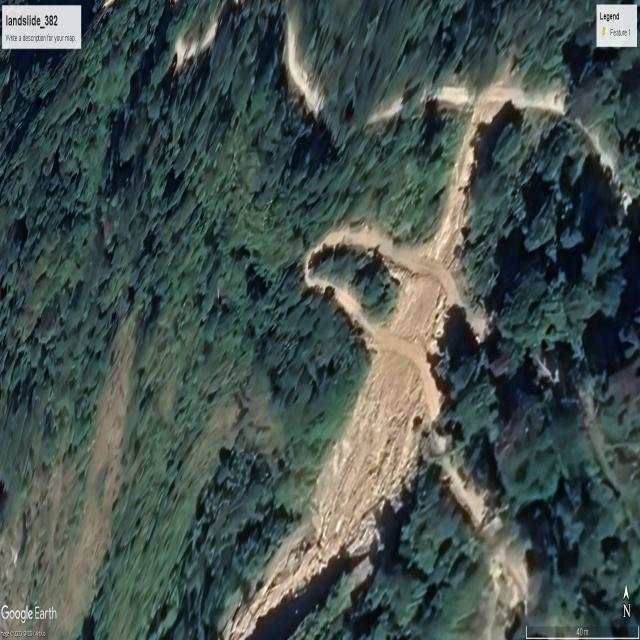Landslide: (266, 90, 482, 639)
